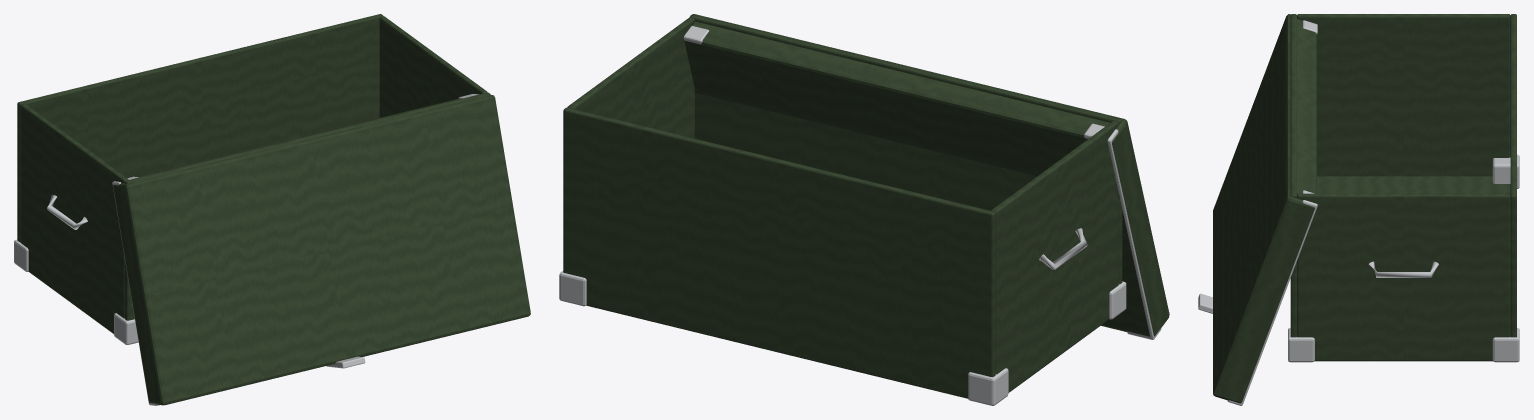
The model's file is lootbox_footlocker_open.glb.
3 views of the same model, side by side, from view 1: azimuth 30°, elevation 25°; view 2: azimuth 150°, elevation 25°; view 3: azimuth 270°, elevation 25° (orthographic). The views are drawn at different scales.
Parts seen in each view (by area): view 1: lid, trunk_front, trunk_left, trunk_right, trunk_back, corner-1-1; view 2: trunk_front, lid, trunk_left, trunk_back, trunk_right, trunk_floor, lidcorner-1, corner-11, corner11; view 3: trunk_right, trunk_left, lid, trunk_floor, trunk_front, trunk_back, corner11, corner1-1, lidcorner1, corner-11, handle1.
Part boxes in pixels (x1,y1,x2,y2): lid: [113, 95, 530, 405]; trunk_front: [17, 14, 383, 242]; trunk_left: [20, 104, 128, 333]; trunk_right: [379, 16, 487, 117]; trunk_back: [124, 92, 490, 320]; corner-1-1: [114, 313, 138, 344]; trunk_front: [563, 107, 995, 397]; lid: [684, 14, 1169, 336]; trunk_left: [991, 121, 1118, 391]; trunk_back: [690, 15, 1122, 284]; trunk_right: [567, 17, 694, 138]; trunk_floor: [586, 305, 1109, 398]; lidcorner-1: [1084, 123, 1161, 339]; corner-11: [968, 368, 1008, 405]; corner11: [559, 271, 586, 306]; trunk_right: [1297, 193, 1510, 361]; trunk_left: [1297, 14, 1510, 176]; lid: [1213, 14, 1316, 403]; trunk_floor: [1315, 176, 1510, 361]; trunk_front: [1510, 14, 1516, 337]; trunk_back: [1290, 14, 1296, 337]; corner11: [1492, 328, 1519, 362]; corner1-1: [1288, 328, 1314, 362]; lidcorner1: [1227, 190, 1317, 405]; corner-11: [1492, 154, 1519, 188]; handle1: [1368, 261, 1438, 277].
Size of the model in its own units: 0.8519 by 0.4303 by 0.5963.
2 materials, 1 textured.
